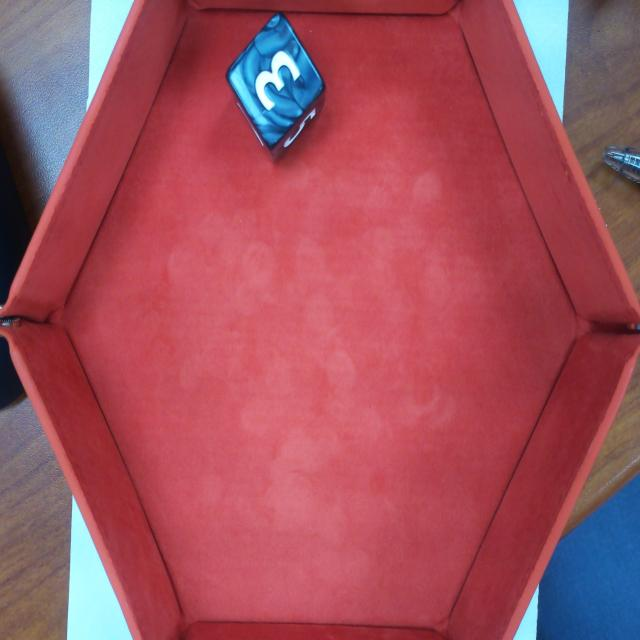dice: (229, 10, 327, 152)
